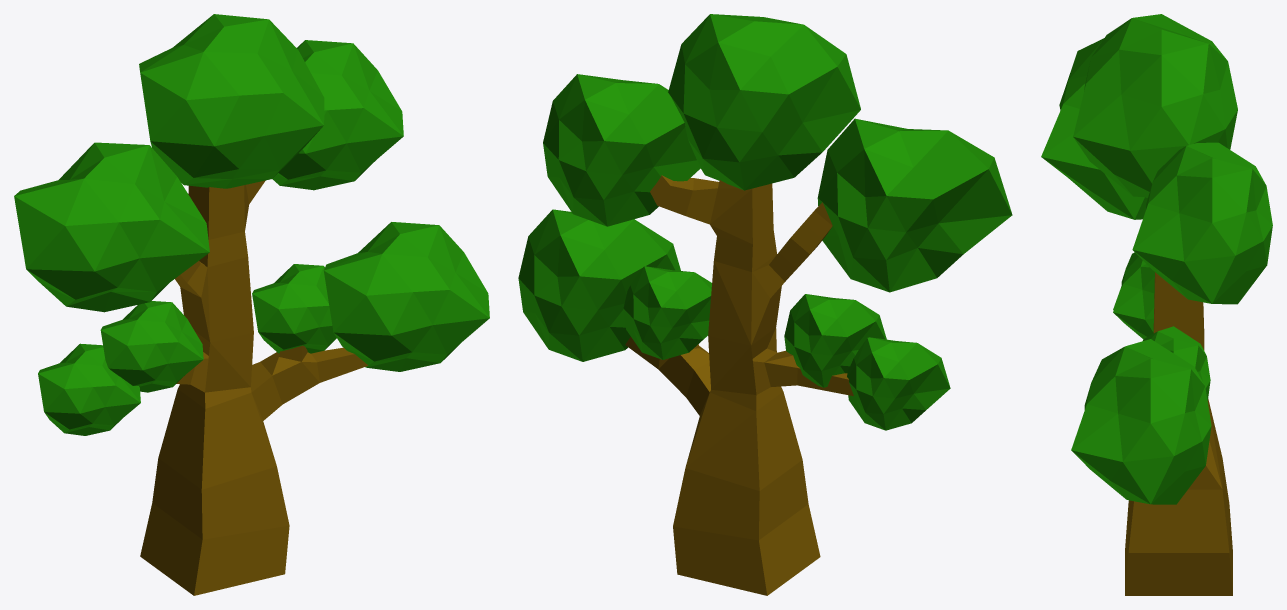
The model's file is ローポリ木blend.fbx.
3 views of the same model, side by side, from view 1: azimuth 30°, elevation 25°; view 2: azimuth 150°, elevation 25°; view 3: azimuth 270°, elevation 25° (orthographic).
Visible parts, largest first — view 1: Icosphere.001; view 2: Icosphere.001; view 3: Icosphere.001.
Boxes of the visible parts, x1=… form: Icosphere.001: x1=14, y1=14, x2=489, y2=595; Icosphere.001: x1=518, y1=14, x2=1012, y2=595; Icosphere.001: x1=1041, y1=14, x2=1272, y2=595.
Bounding box in the file's own units: 583 × 639 × 246.
